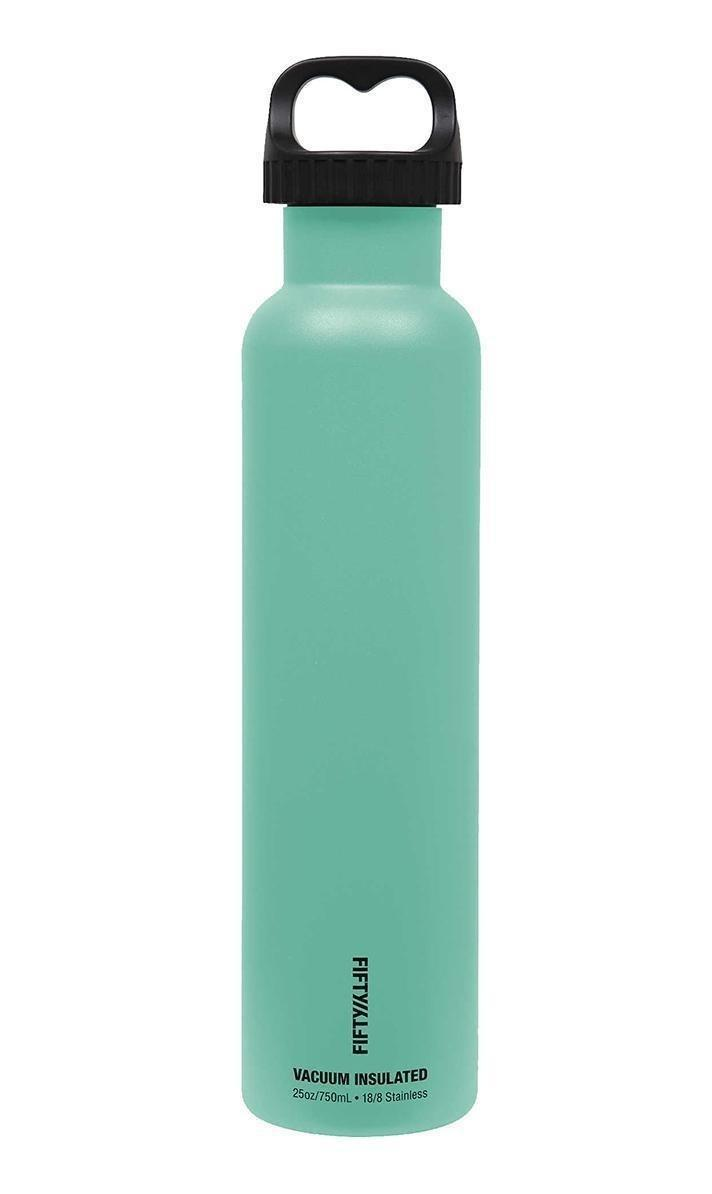gym bottle: (231, 42, 492, 1146)
